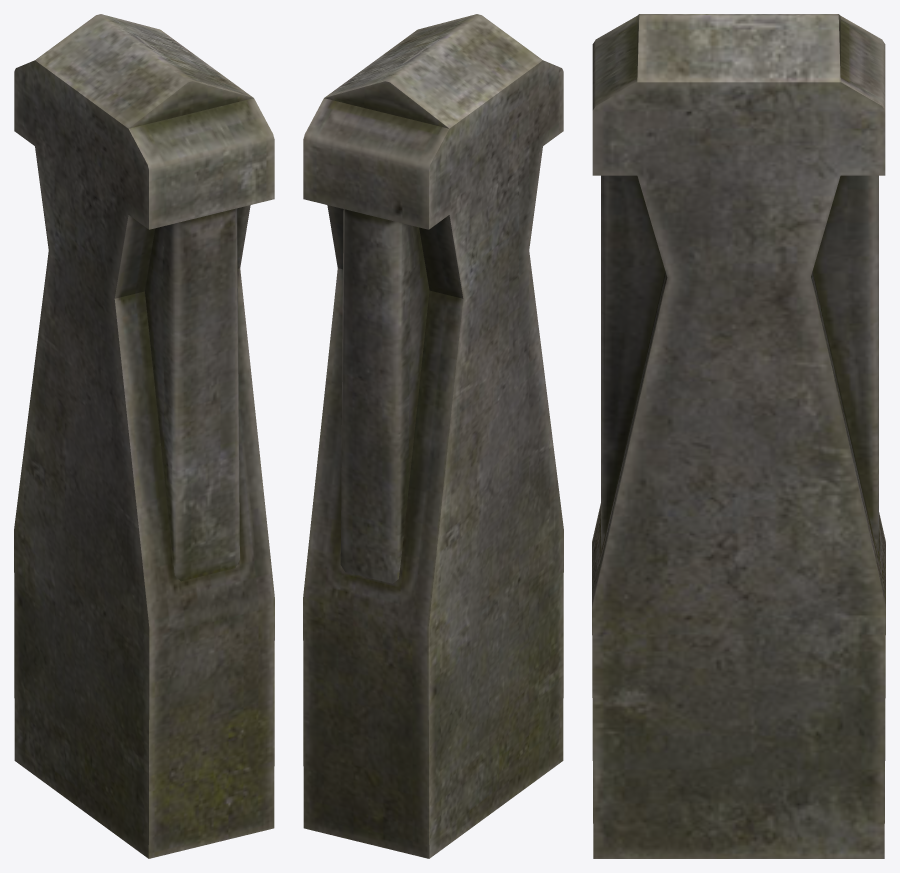
The model's file is medieval-wall-column.glb.
3 renders of one model, left to right at view 1: azimuth 30°, elevation 25°; view 2: azimuth 150°, elevation 25°; view 3: azimuth 270°, elevation 25°, orthographic. The views are drawn at different scales.
Parts seen in each view (by area): view 1: medieval_wall_column; view 2: medieval_wall_column; view 3: medieval_wall_column.
Boxes of the visible parts, x1,y1,x2,y2 form: medieval_wall_column: (14, 14, 274, 858); medieval_wall_column: (303, 14, 563, 858); medieval_wall_column: (592, 14, 885, 858).
Bounding box in the file's own units: 0.5231 × 2.97 × 0.9769.
Materials: 1 (1 with a texture image).
